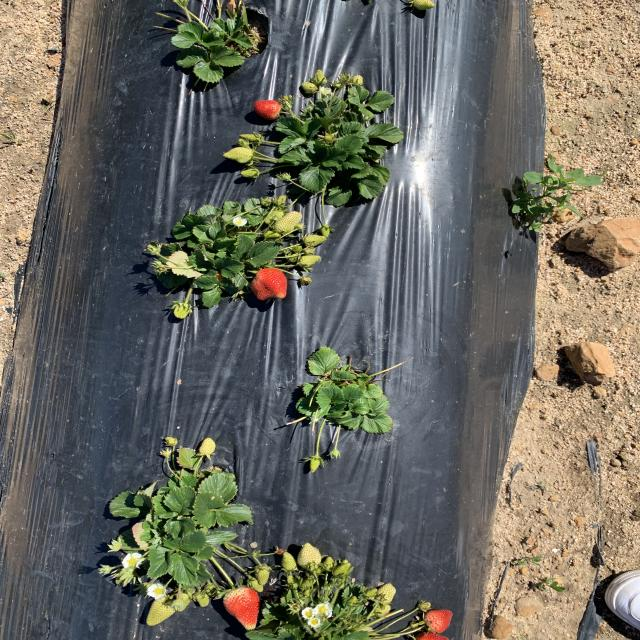unripe: (222, 585, 261, 630), (253, 268, 288, 300), (423, 608, 453, 634), (255, 100, 283, 117), (414, 631, 450, 640)
